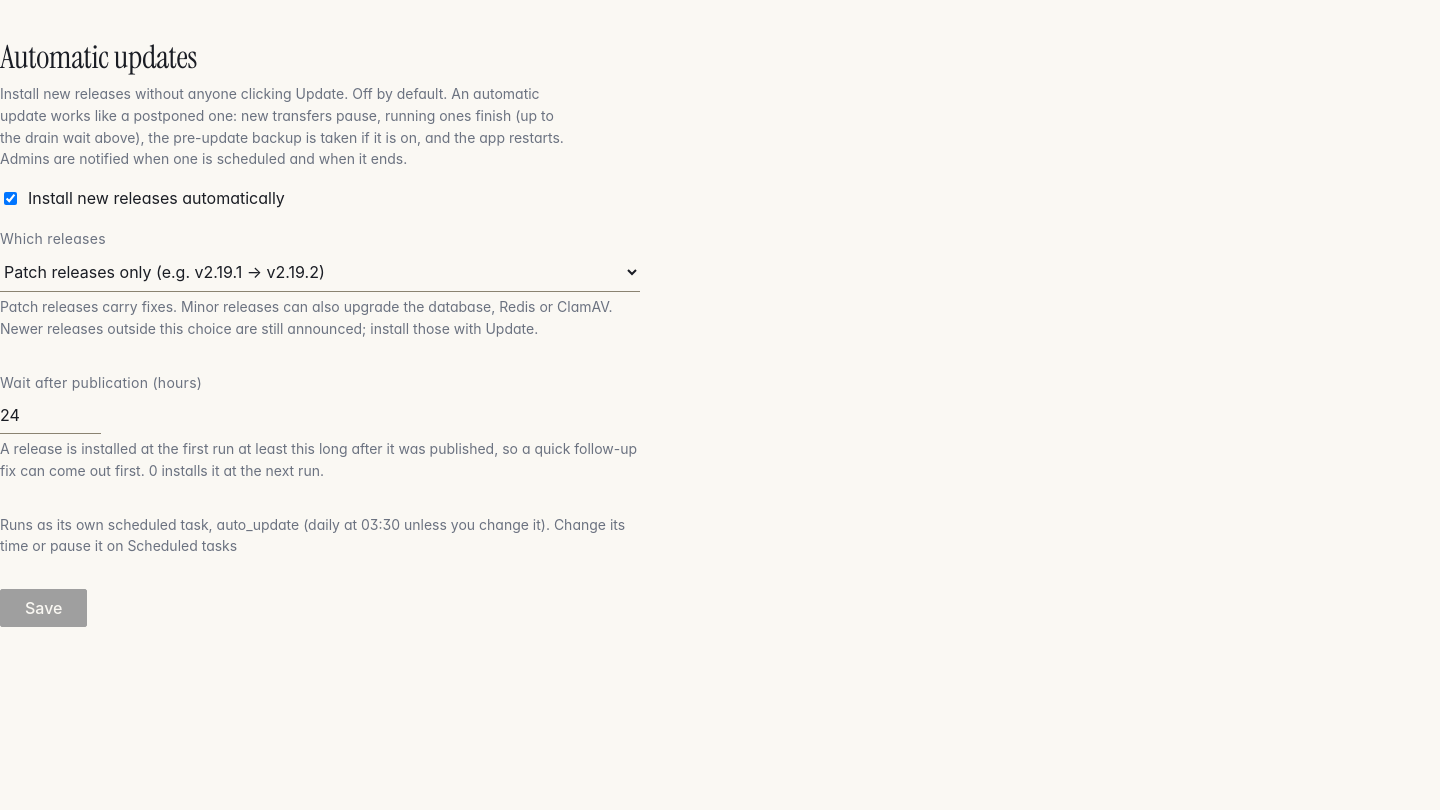
Test case: AutoUpdateSection › changing it while on asks for the password too
This screenshot has width=1440, height=810.
Select "Every newer release, including new major versions" in the dropdown with test id "auto-update-scope" at [320, 273], box x1=0 y1=253 x2=640 y2=292
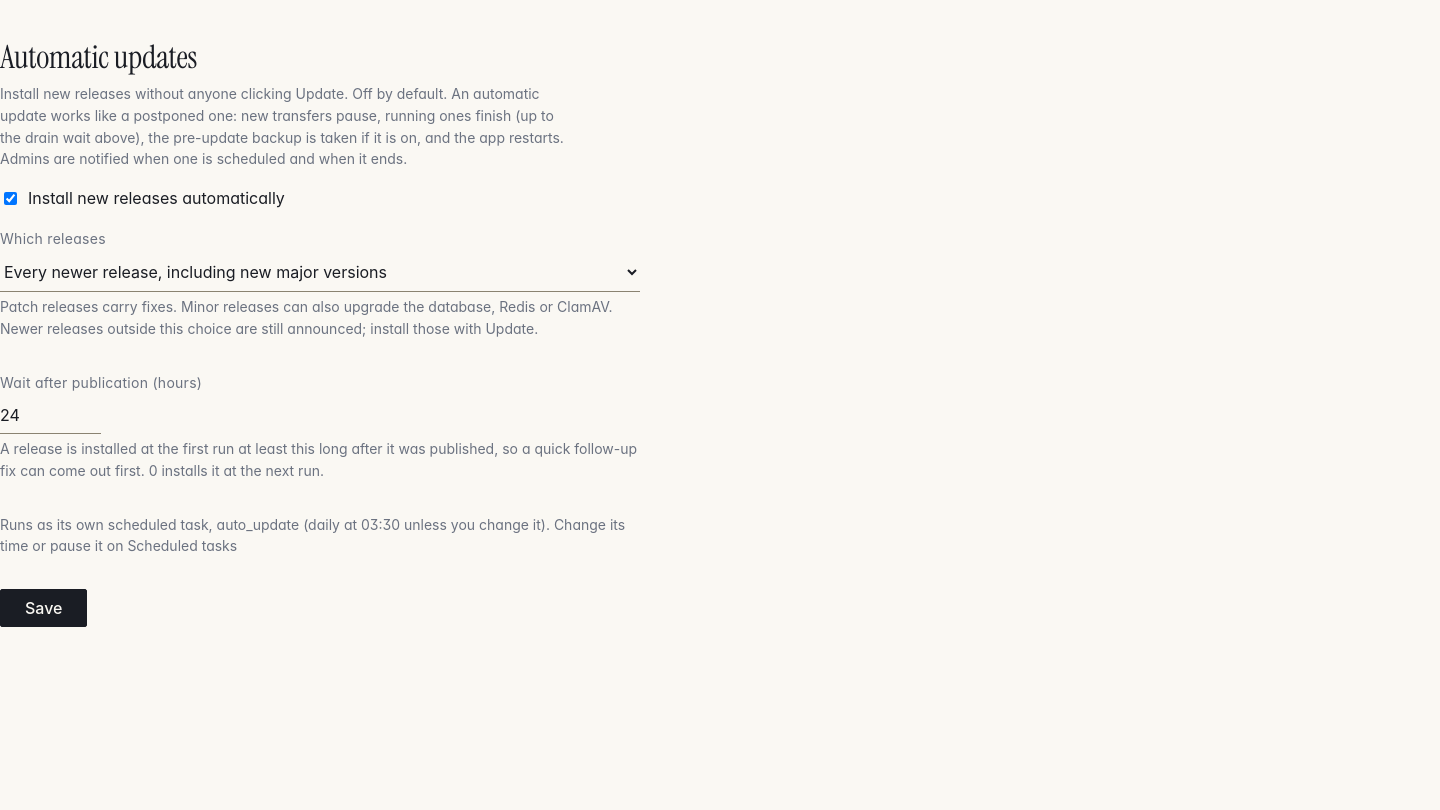
Submit the form, box x1=0 y1=186 x2=640 y2=627
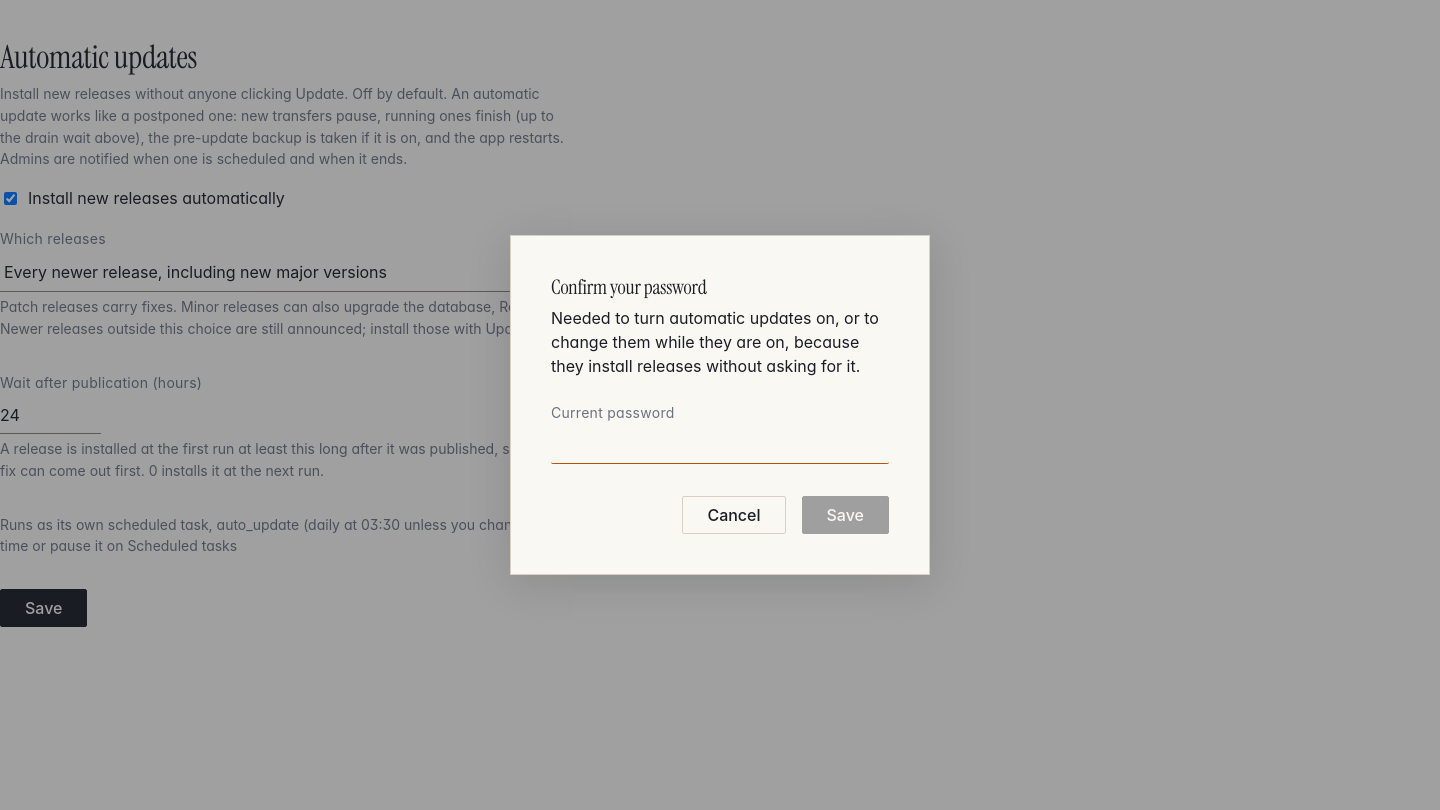
expect the dialog with test id "step-up-dialog" is shown: met
